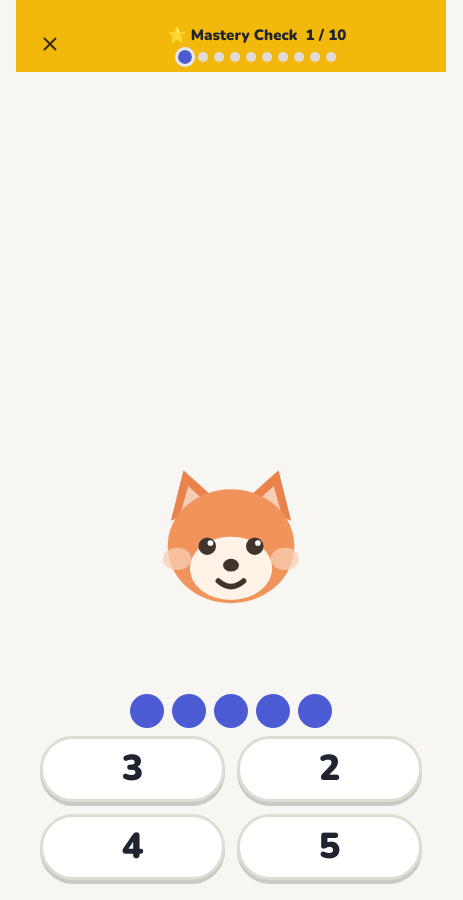
Test case: QuestionScreen — anak harus tahu sisa berapa lagi › menekan jawaban langsung memberi warna pada tombol yang dipilih
Step 1. Click the button "3" → {"x": 132, "y": 769}, box [40,736,225,802]
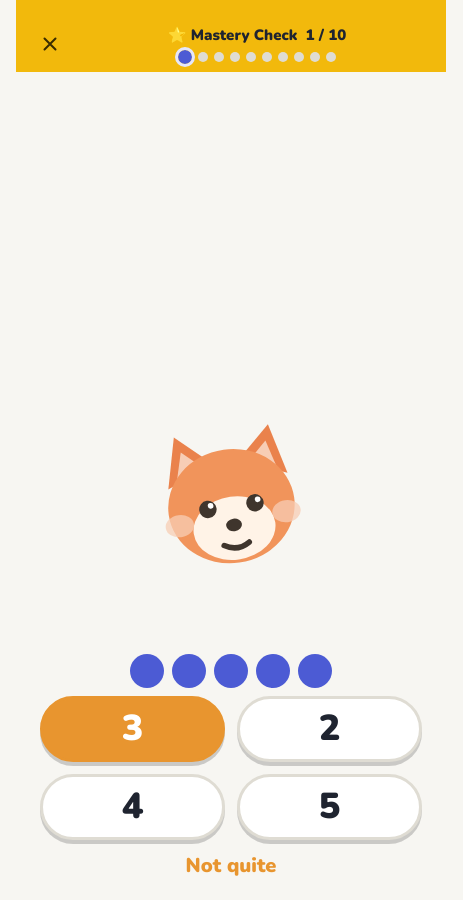
Now the text "Not quite" is shown, box [186,852,276,879]
